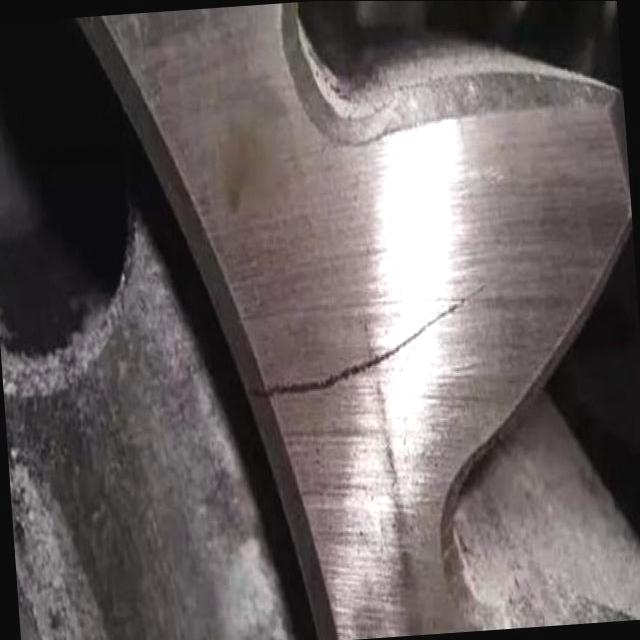defect: (250, 275, 497, 401)
